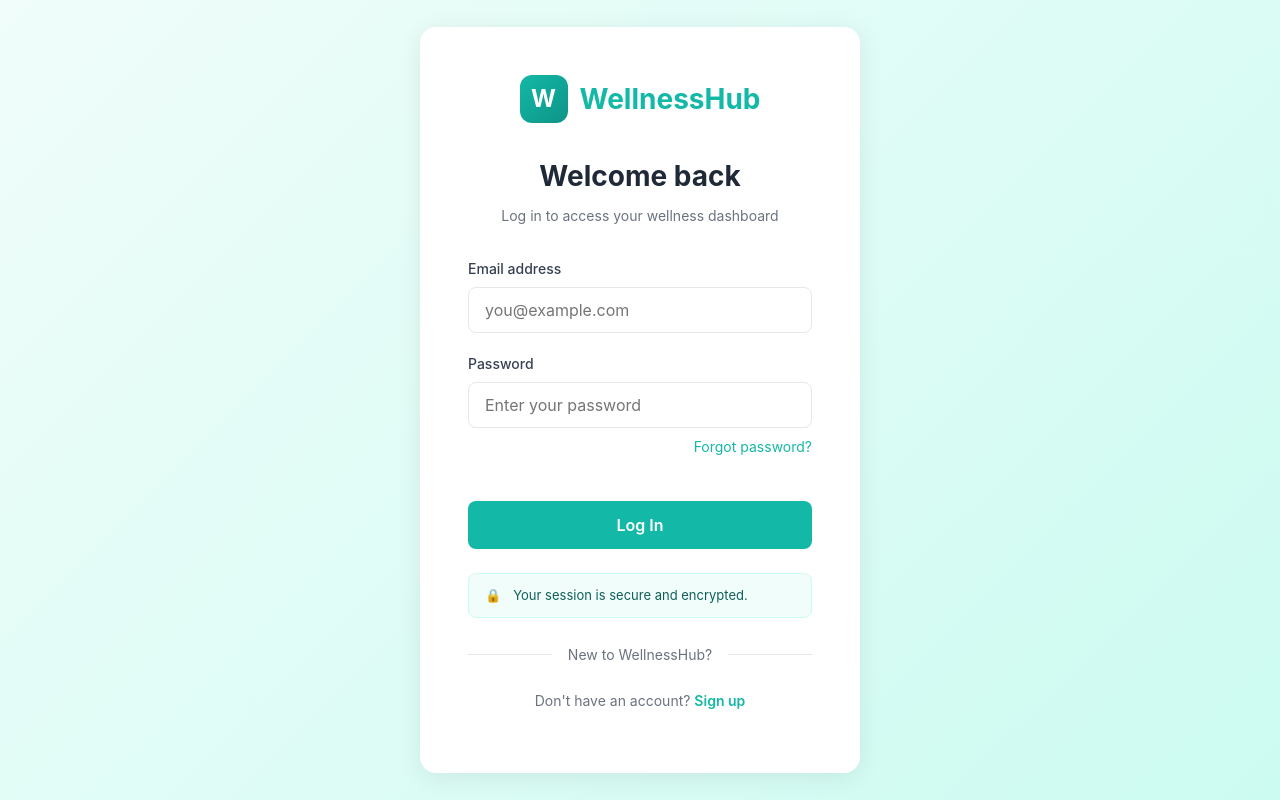
Test: empty-field validation › blocks submit and shows required error when password is empty
The width and height of the screenshot is (1280, 800).
Type "user@example.com" into the field labelled "Email address" at (640, 310), box x1=468 y1=287 x2=812 y2=333
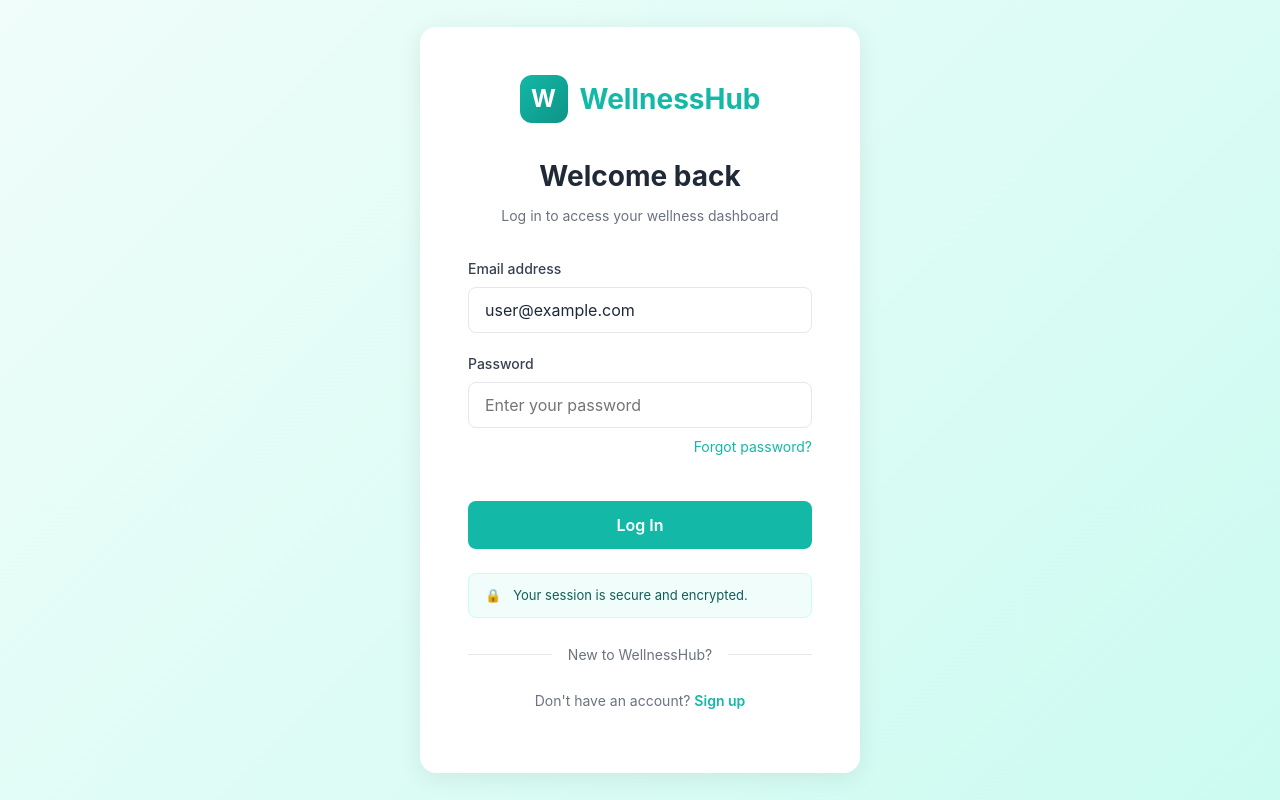
Submit the form "Email address Password Forgot password? Log In", box x1=468 y1=258 x2=812 y2=549
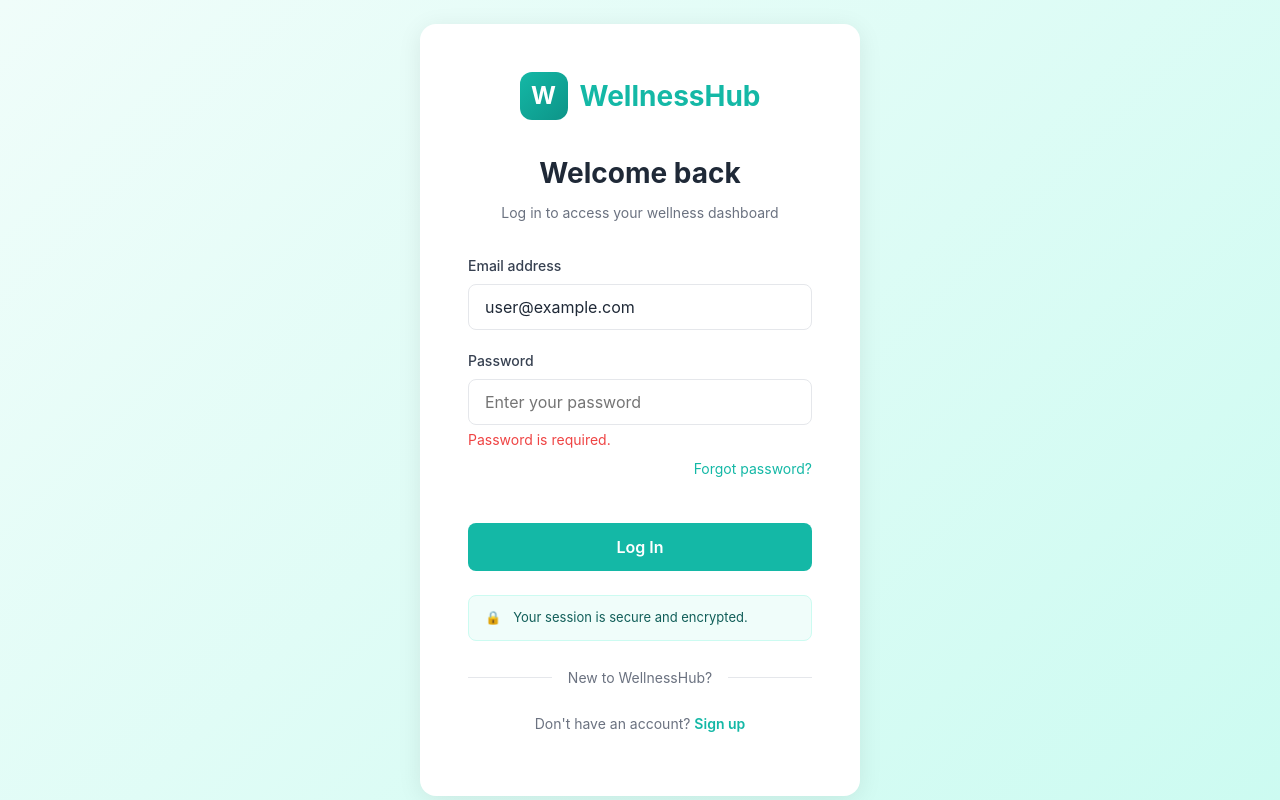
Check: the text "Password is required." is shown, box x1=468 y1=431 x2=611 y2=448
